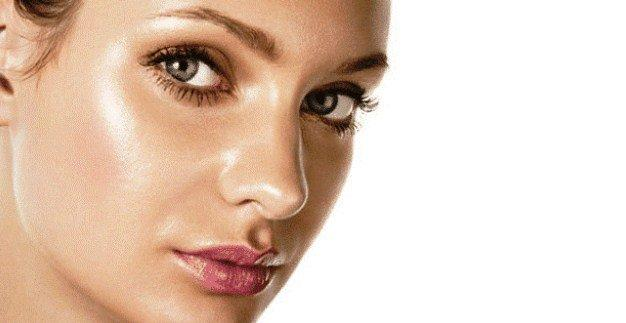Oily-Skin: (92, 39, 141, 177), (239, 75, 296, 110), (240, 179, 301, 208), (195, 145, 239, 179)
